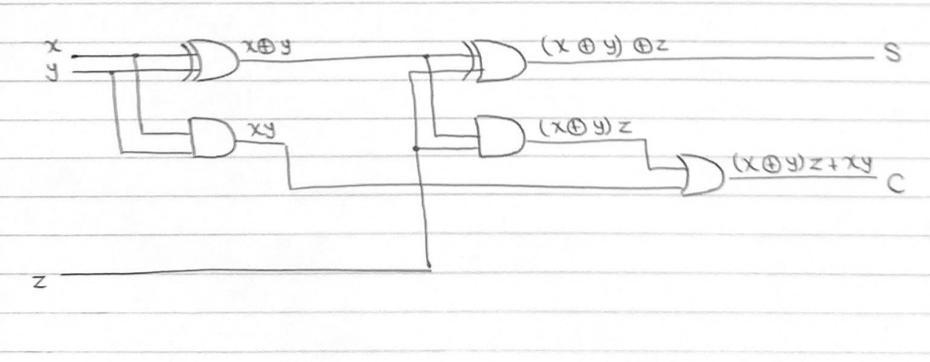AND: (462, 107, 530, 165), (182, 110, 241, 168)
OR: (674, 145, 732, 205)
XOR: (455, 33, 538, 89), (175, 32, 242, 88)
